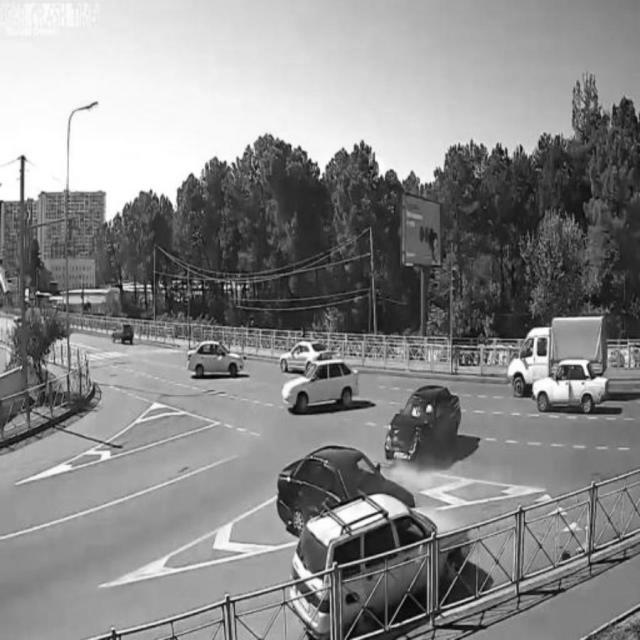vehicle: (293, 493, 471, 635), (276, 442, 389, 528), (506, 314, 606, 394), (388, 377, 465, 469), (280, 359, 360, 420), (531, 362, 613, 417), (185, 338, 246, 378), (281, 337, 319, 372), (112, 320, 136, 346)
